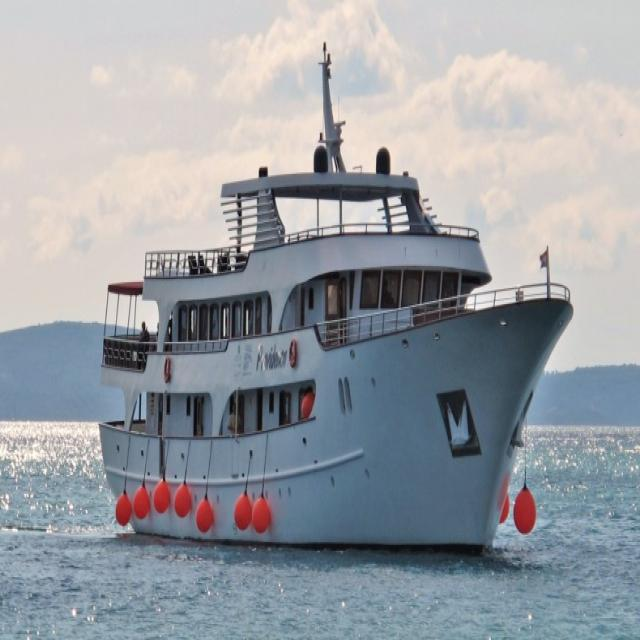cruises: (92, 40, 578, 571)
